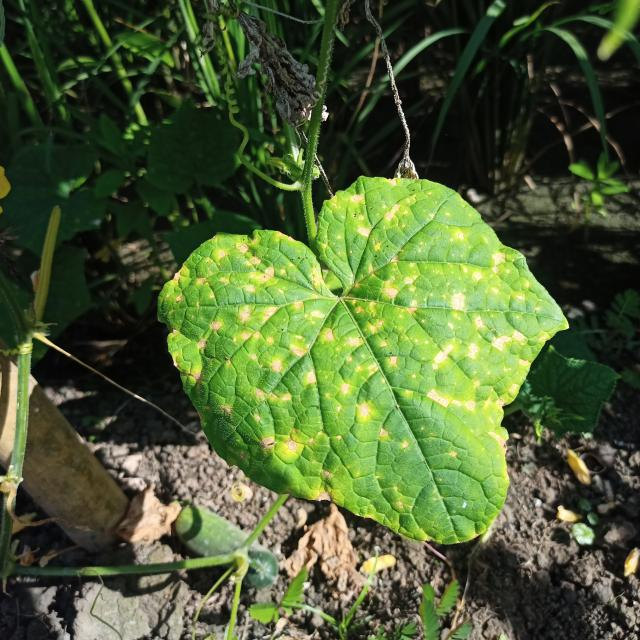disease_cucumber: (170, 179, 551, 526)
